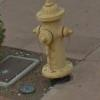Hydrant: (30, 2, 81, 90)
